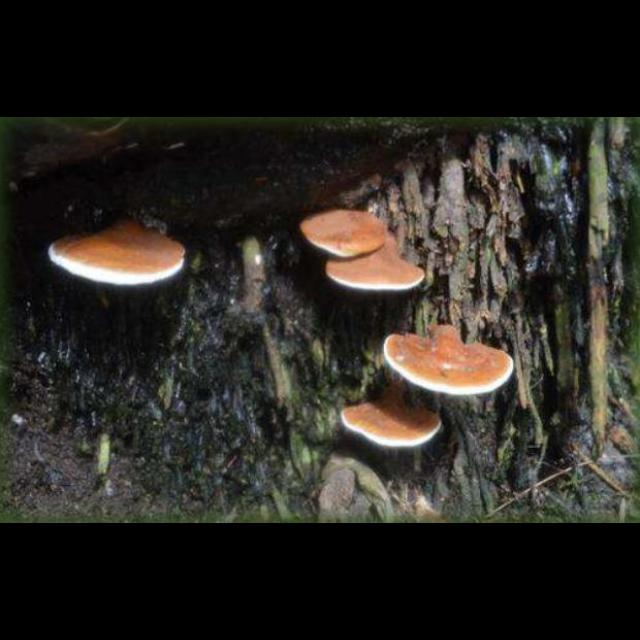ganoderma: (381, 323, 514, 401), (47, 222, 187, 289), (340, 399, 446, 452), (300, 210, 391, 262), (325, 254, 430, 294)
